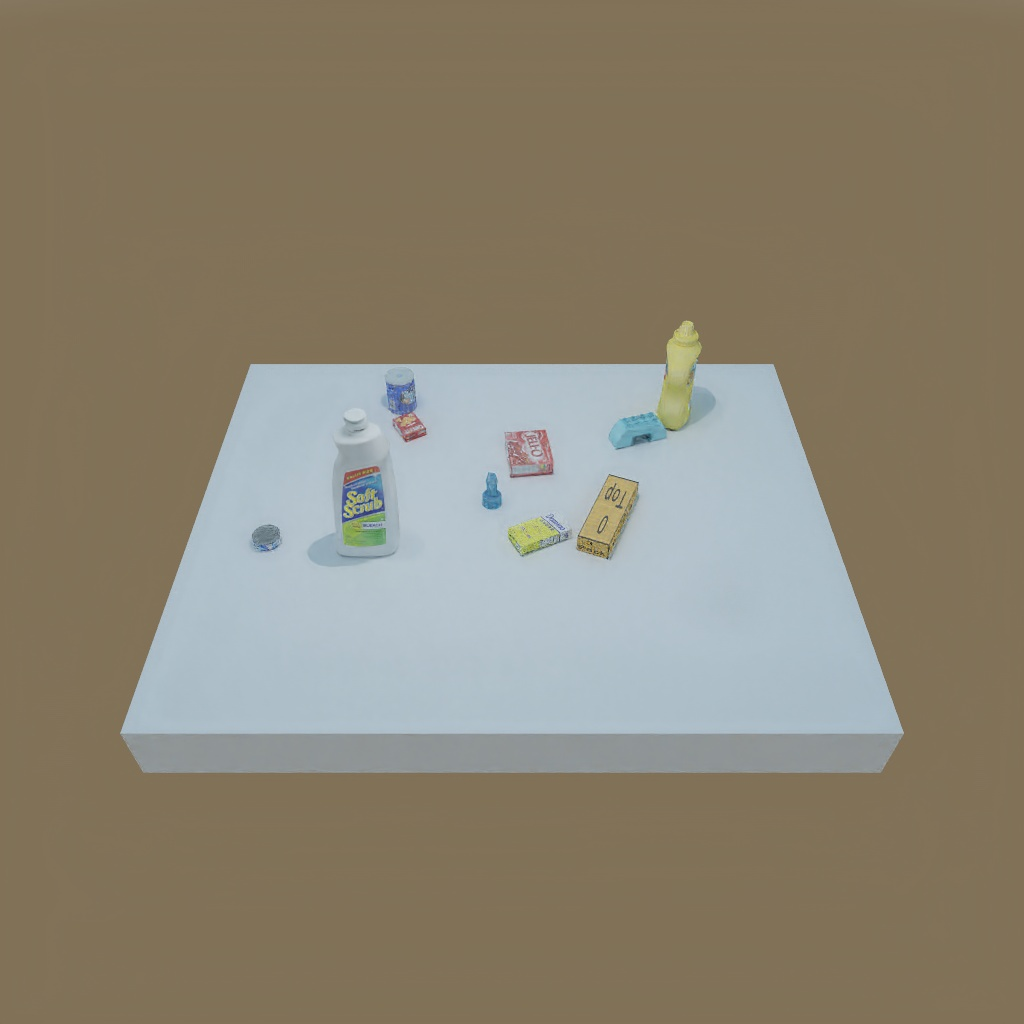gelatin_box: (505, 427, 561, 481)
jenga: (578, 472, 642, 560)
master_chef_can: (382, 364, 423, 417)
mustard_bottle: (660, 320, 708, 428)
